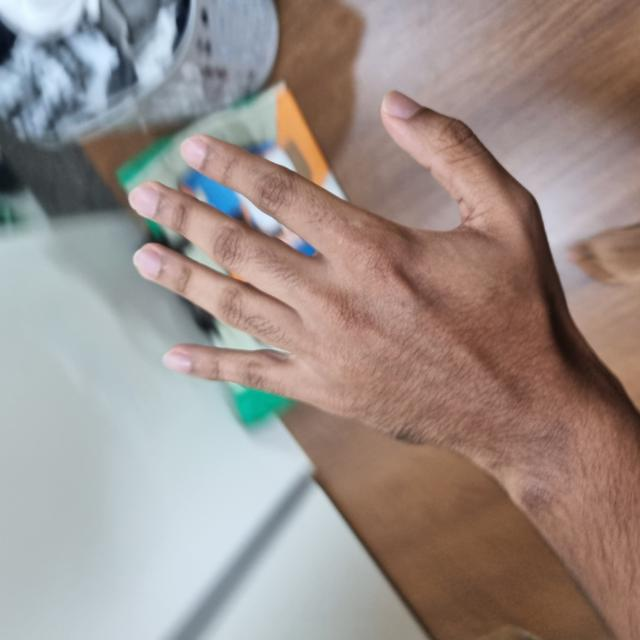Paper: (0, 136, 639, 639)
